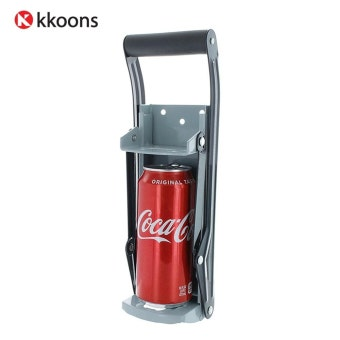paper: (136, 161, 198, 313)
